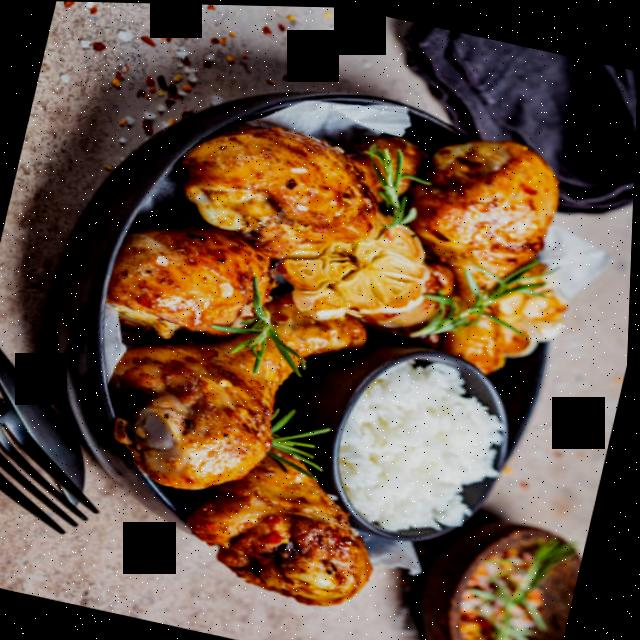Frango: (42, 59, 606, 640)
